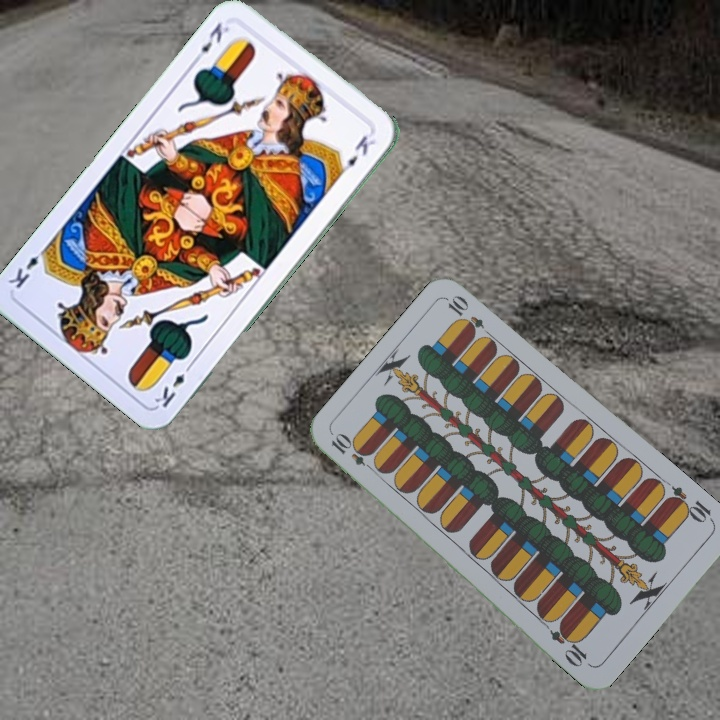E10: (662, 482, 717, 526), (327, 430, 379, 475)
EK: (150, 358, 196, 411), (189, 15, 236, 66)
